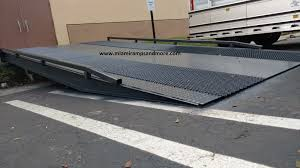Yard Ramp: (4, 35, 300, 107)
